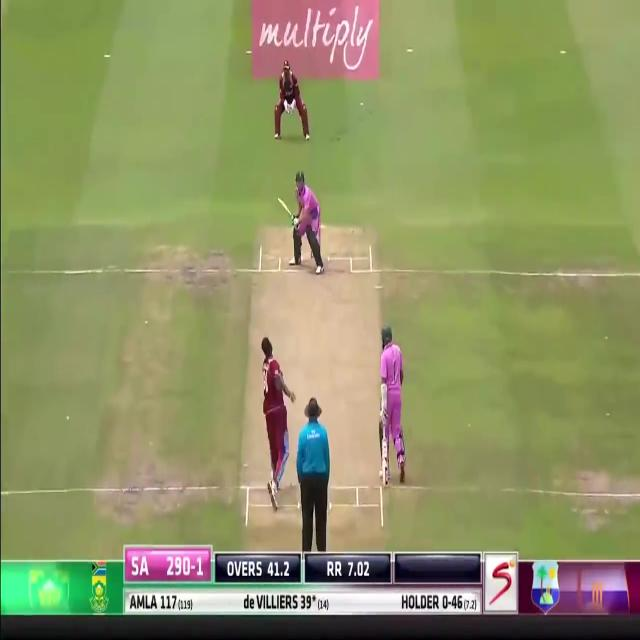Ball: (379, 324, 406, 484), (291, 170, 323, 271)
Fielder: (261, 337, 293, 506), (277, 58, 305, 138)
Umpire: (296, 396, 331, 548)
